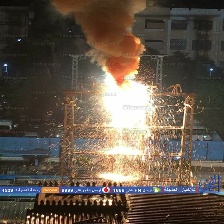fire: (99, 79, 154, 181)
smoke: (53, 1, 158, 84)
